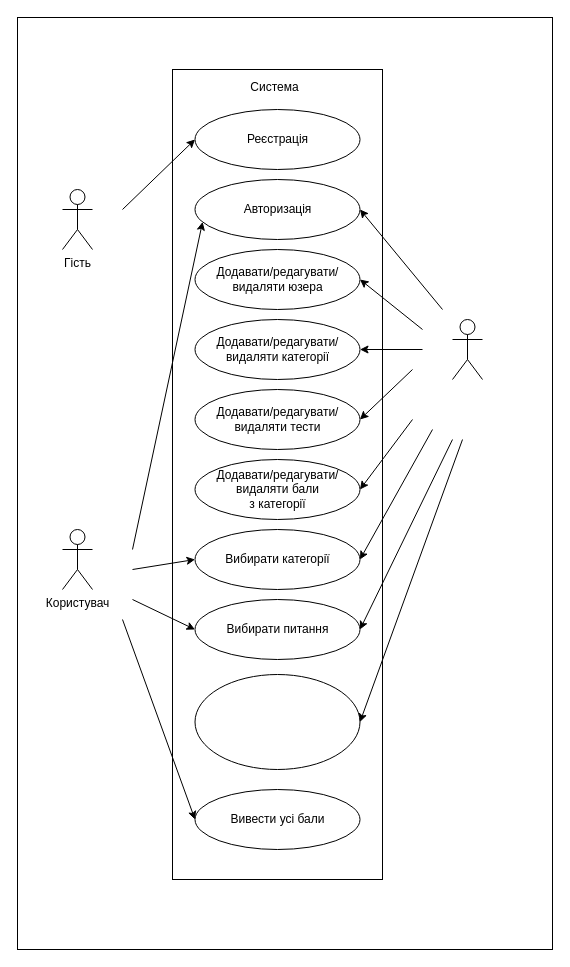
This 570x967 diagram has some shape labels left out. The shapes that lost their labels are listed below. From the top down, each one's box as (x1, y1, x2, y2) in pixels, then its label:
(452, 318, 482, 380): Адміністратор
(194, 674, 360, 770): Вивести кількість категорій/питань/ користувачів/балів
